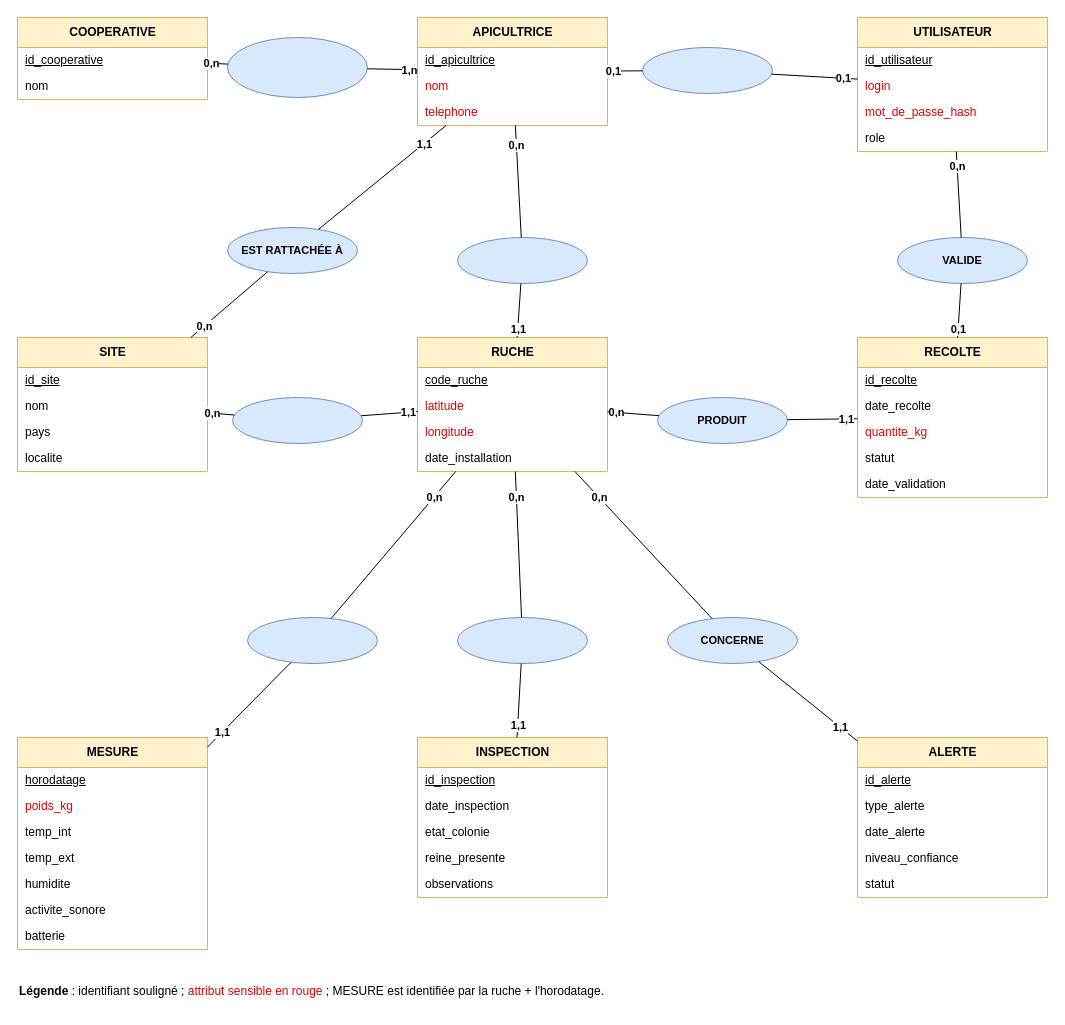
Some shapes in this 1065 by 1025 pixel diagram are drawn without their labels. Each missing label, with the centre of its shape:
A POUR COMPTE: (x=707, y=70)
ADHÈRE date_adhesion: (x=297, y=67)
EST INSTALLÉE SUR: (x=297, y=420)
POSSÈDE: (x=522, y=260)
SUBIT: (x=522, y=640)
ÉMET: (x=312, y=640)
